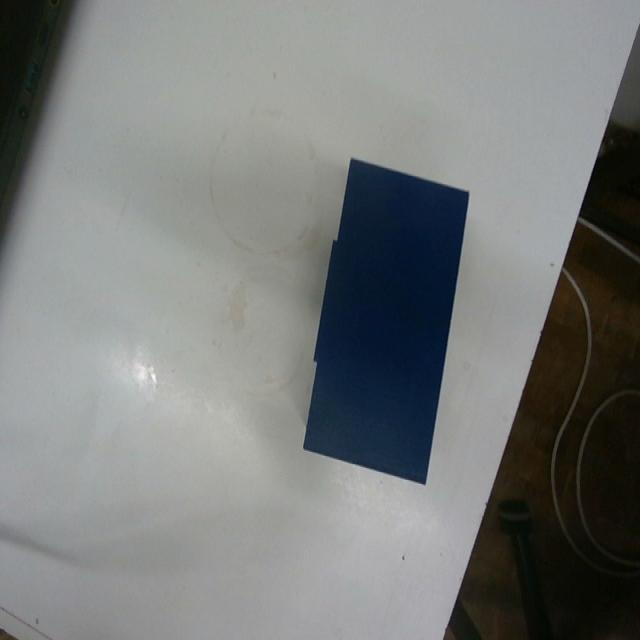Blue Cuboid: (301, 153, 470, 487)
